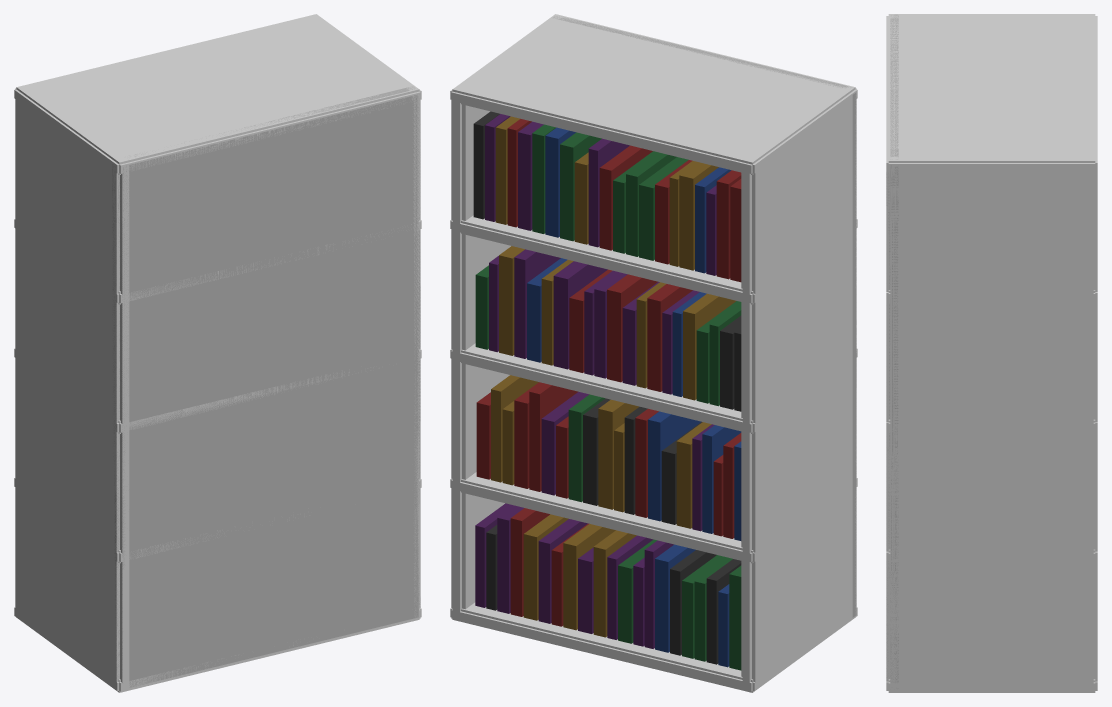
File: wooden_bookcase_v0.glb
3 renders of one model, left to right at view 1: azimuth 30°, elevation 25°; view 2: azimuth 150°, elevation 25°; view 3: azimuth 270°, elevation 25°, orthographic.
Parts seen in each view (by area): view 1: wooden_bookcase_v0; view 2: wooden_bookcase_v0; view 3: wooden_bookcase_v0.
Boxes of the visible parts, <box> form: wooden_bookcase_v0: <box>14,14,421,692</box>; wooden_bookcase_v0: <box>450,14,857,692</box>; wooden_bookcase_v0: <box>886,14,1097,692</box>.
Size of the model in its own units: 1.5 by 2.5 by 0.9.
